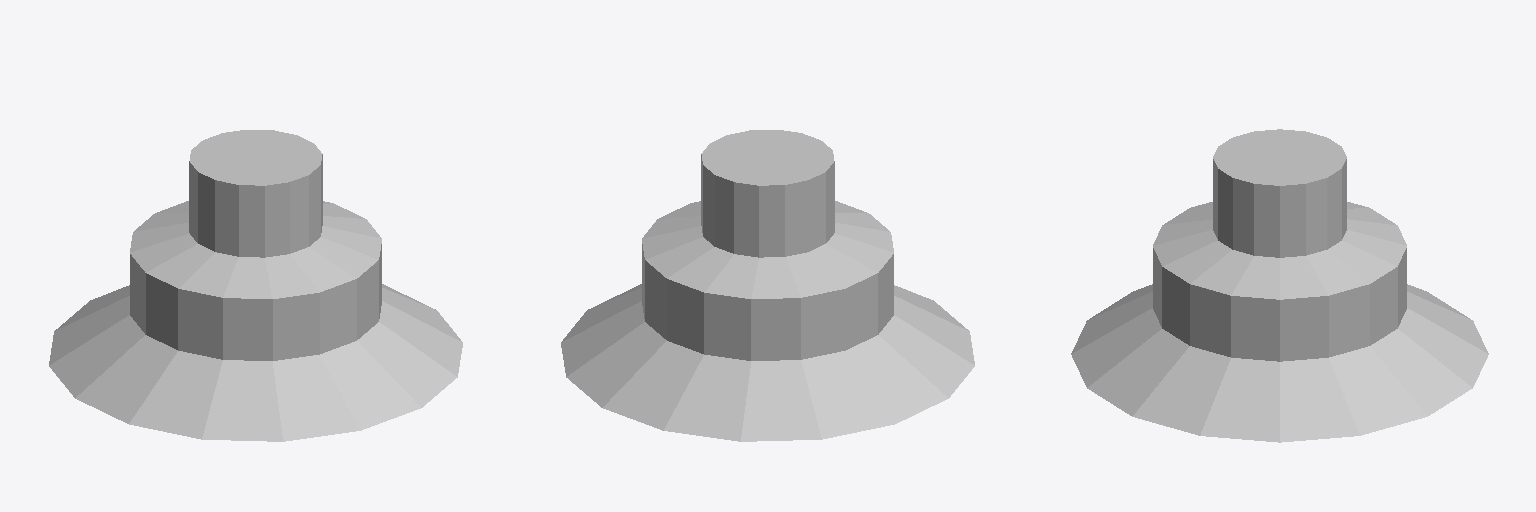
The model's file is symbol_b_1.obj.
The picture shows the model from 3 angles: view 1: azimuth 30°, elevation 25°; view 2: azimuth 150°, elevation 25°; view 3: azimuth 270°, elevation 25°; orthographic projection.
Parts seen in each view (by area): view 1: UpgradeB1_Circle; view 2: UpgradeB1_Circle; view 3: UpgradeB1_Circle.
Part boxes in pixels (x1,y1,x2,y2): UpgradeB1_Circle: (49,130,462,441); UpgradeB1_Circle: (561,130,974,441); UpgradeB1_Circle: (1071,129,1488,442).
Bounding box in the file's own units: 2 × 1.04 × 2.